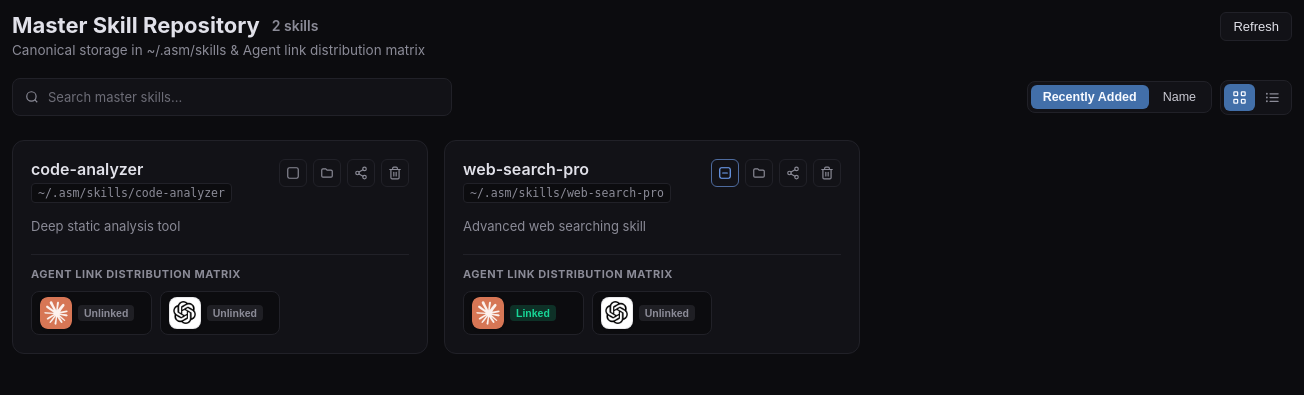
Scenario: SkillLibrary Route › keeps the list matrix collapsed until the user asks to view it
Click the button named "List view" at (1272, 97), box [1257, 84, 1288, 110]
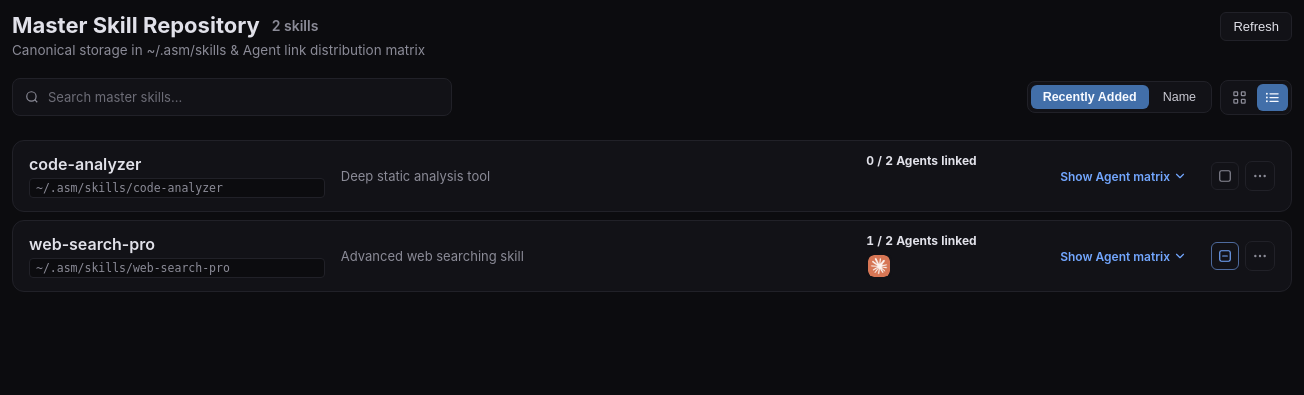
Expected: the element with test id "skill-list-coverage-web-search-pro" shows "1 / 2 Agents linked", [866, 233, 977, 248]
Expected: the element with test id "list-linked-agent-web-search-pro-claude-code" is shown, [866, 253, 892, 279]
Expected: the button with test id "agent-badge-web-search-pro-claude-code" is gone
Click the button with aria-label "Show Agent matrix for web-search-pro" at (1124, 256), box [1052, 242, 1195, 270]
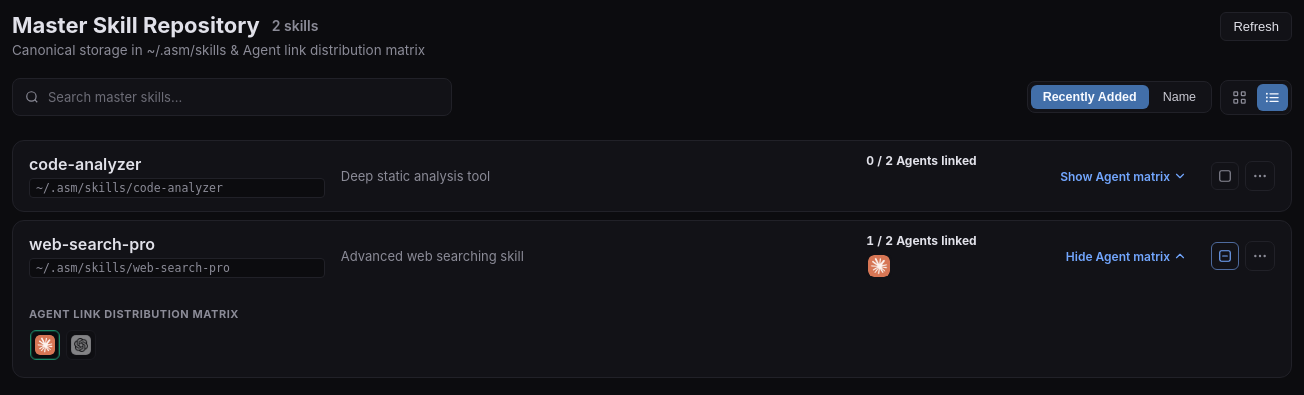
Expected: the button with test id "agent-badge-web-search-pro-claude-code" is shown, [30, 330, 60, 360]
Expected: the button with aria-label "Hide Agent matrix for web-search-pro" is shown, [1058, 242, 1195, 270]
